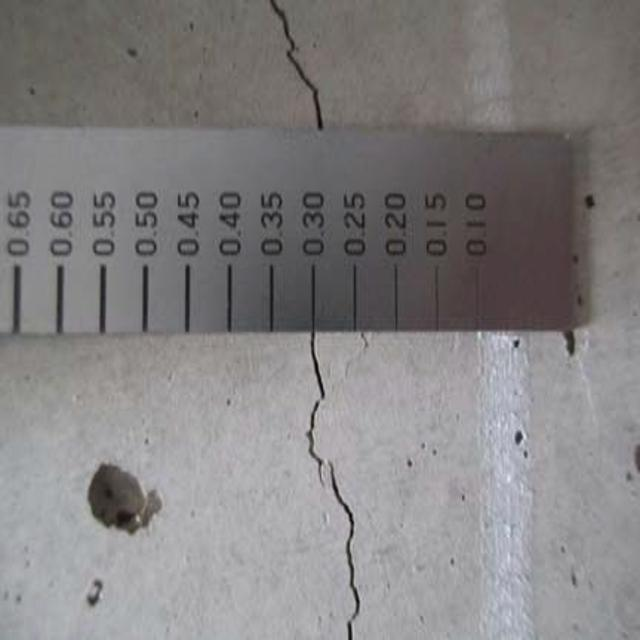crack: (263, 7, 370, 640)
